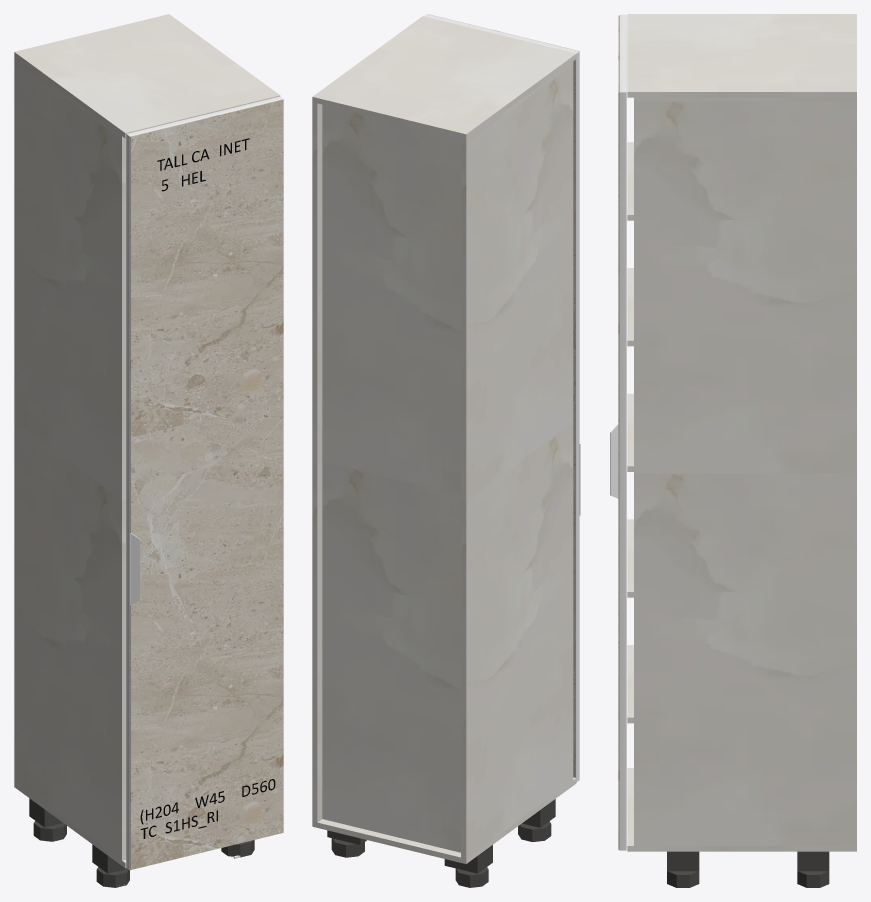
3 views of the same model, side by side, from view 1: azimuth 30°, elevation 25°; view 2: azimuth 150°, elevation 25°; view 3: azimuth 270°, elevation 25° (orthographic). The views are drawn at different scales.
Size of what is drawn, in the model's own units: 0.45 by 2.14 by 0.6034.
6 materials, 2 textured.
